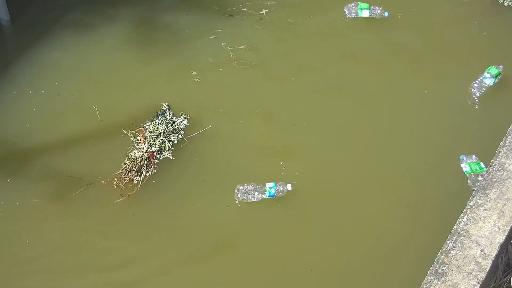plastic: (231, 178, 316, 206), (459, 62, 506, 102), (453, 142, 488, 193), (340, 3, 394, 23)
twig: (93, 87, 205, 208)
